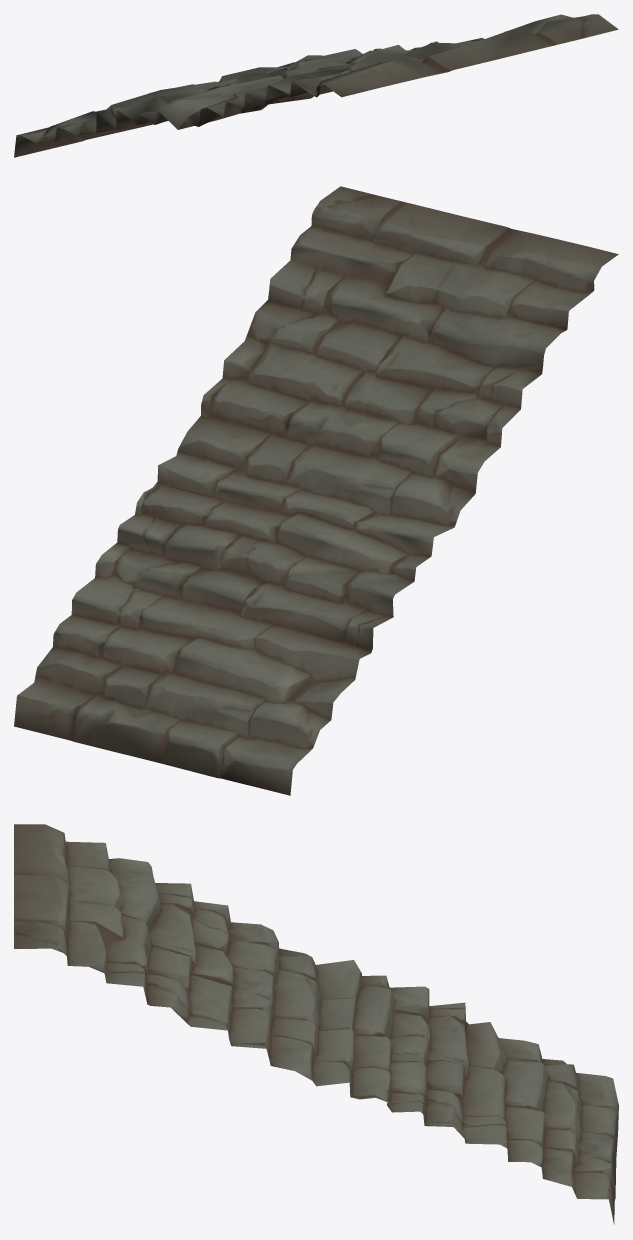
Rendered from SM_FW01_Ruins_Int_Stairs_4x2x2_L_01.fbx.
3 renders of one model, top to bottom at view 1: azimuth 30°, elevation 25°; view 2: azimuth 150°, elevation 25°; view 3: azimuth 270°, elevation 25°, orthographic. The views are drawn at different scales.
Visible parts, largest first — view 1: SM_FW01_Ruins_Int_Stairs_4x2x2_L_01_LOD0; view 2: SM_FW01_Ruins_Int_Stairs_4x2x2_L_01_LOD0; view 3: SM_FW01_Ruins_Int_Stairs_4x2x2_L_01_LOD0.
Boxes of the visible parts, left/top/right/bottom form: SM_FW01_Ruins_Int_Stairs_4x2x2_L_01_LOD0: left=14, top=14, right=618, bottom=157; SM_FW01_Ruins_Int_Stairs_4x2x2_L_01_LOD0: left=14, top=186, right=618, bottom=795; SM_FW01_Ruins_Int_Stairs_4x2x2_L_01_LOD0: left=14, top=824, right=618, bottom=1224.
Size of what is drawn, in the model's own units: 1.99 by 2.08 by 4.09.
